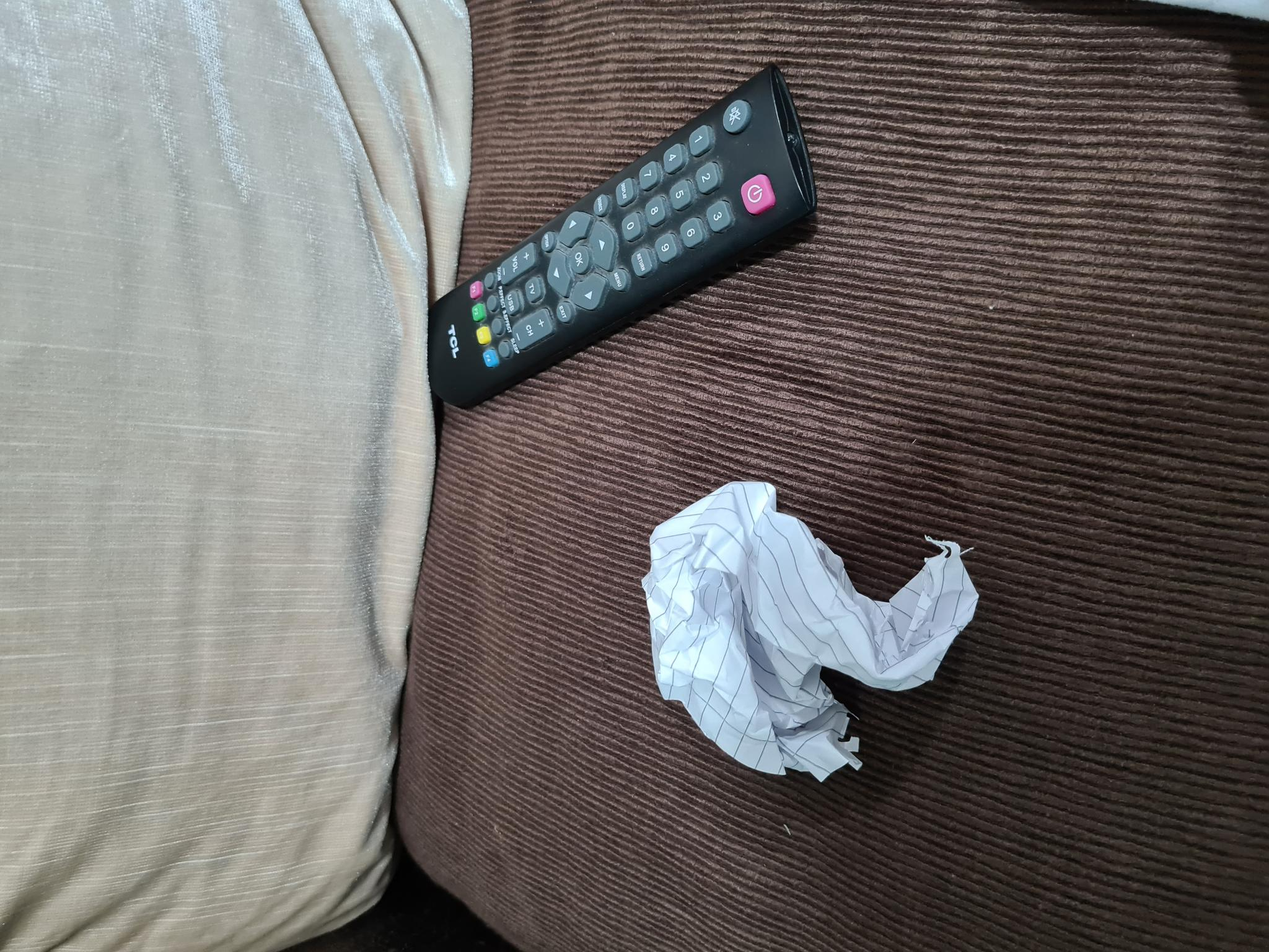Kertas: (153, 643, 493, 952)
